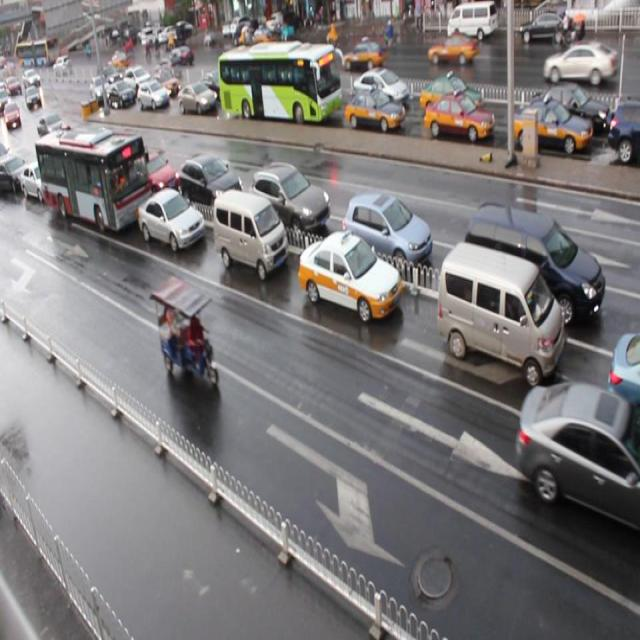car: (514, 377, 640, 525), (298, 228, 401, 322), (342, 192, 432, 276), (250, 162, 330, 233), (513, 98, 592, 156), (137, 186, 205, 251), (526, 84, 608, 135), (178, 152, 244, 213), (606, 330, 640, 436), (424, 92, 494, 140), (344, 85, 404, 133), (426, 74, 490, 119), (133, 146, 179, 198), (352, 67, 409, 108), (607, 98, 640, 160), (21, 157, 58, 202), (177, 81, 219, 117), (82, 132, 121, 170), (273, 67, 313, 102), (1, 152, 30, 194), (139, 77, 169, 113), (150, 69, 183, 98), (197, 69, 228, 99), (125, 63, 154, 91), (37, 113, 67, 139), (106, 81, 134, 106)
truck: (437, 240, 563, 388), (464, 199, 604, 328), (212, 187, 288, 279)
van: (35, 126, 154, 234), (216, 43, 340, 123)
